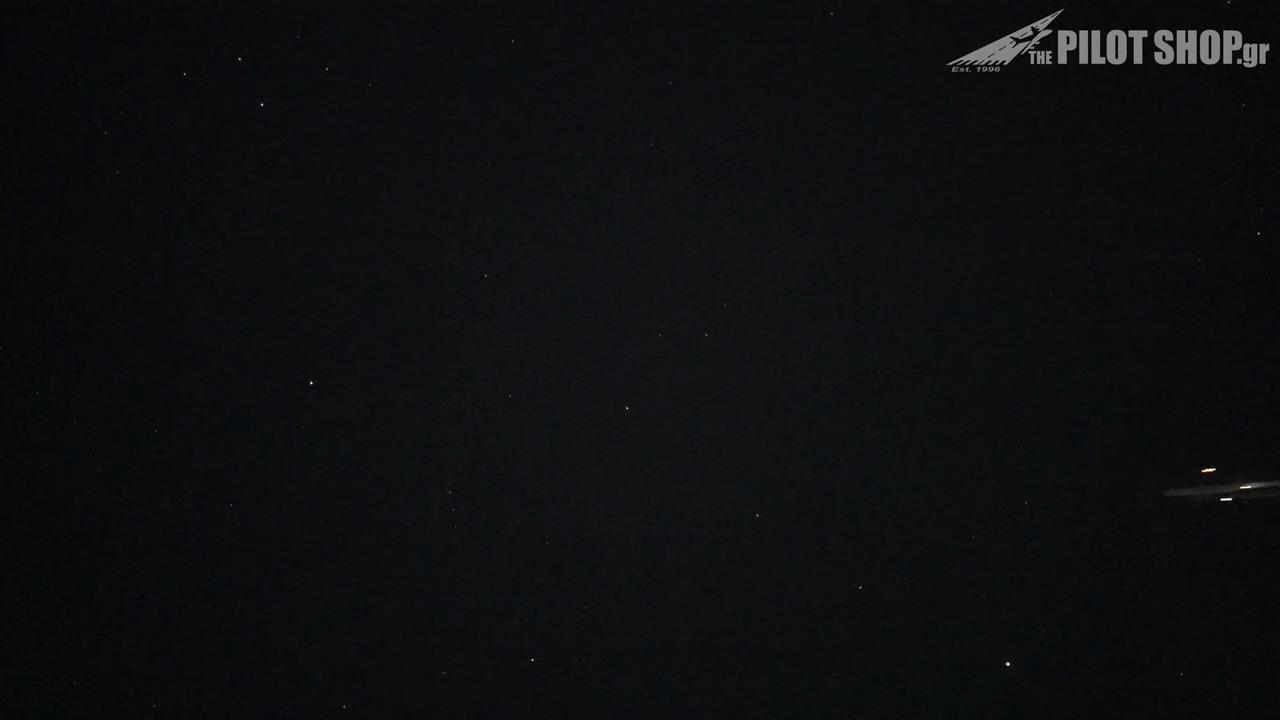Plane: (1117, 457, 1279, 516)
